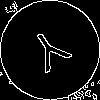Y: (25, 25, 78, 82)
